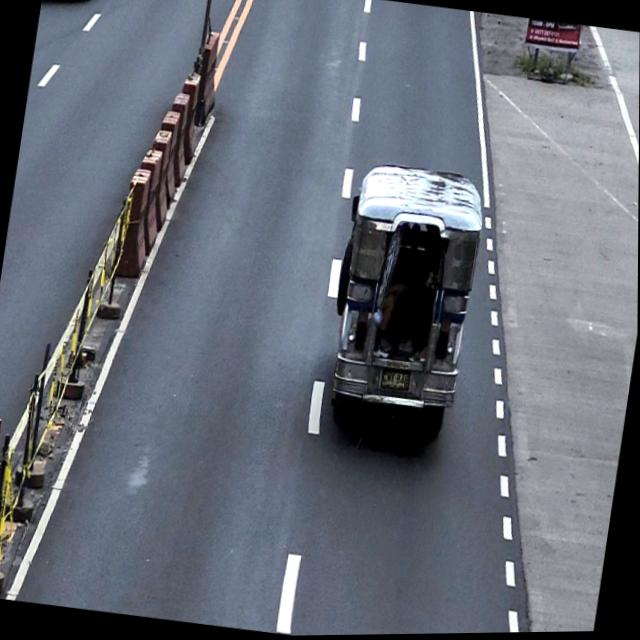Jeep: (319, 158, 491, 434)
License-Plate: (379, 367, 413, 394)
